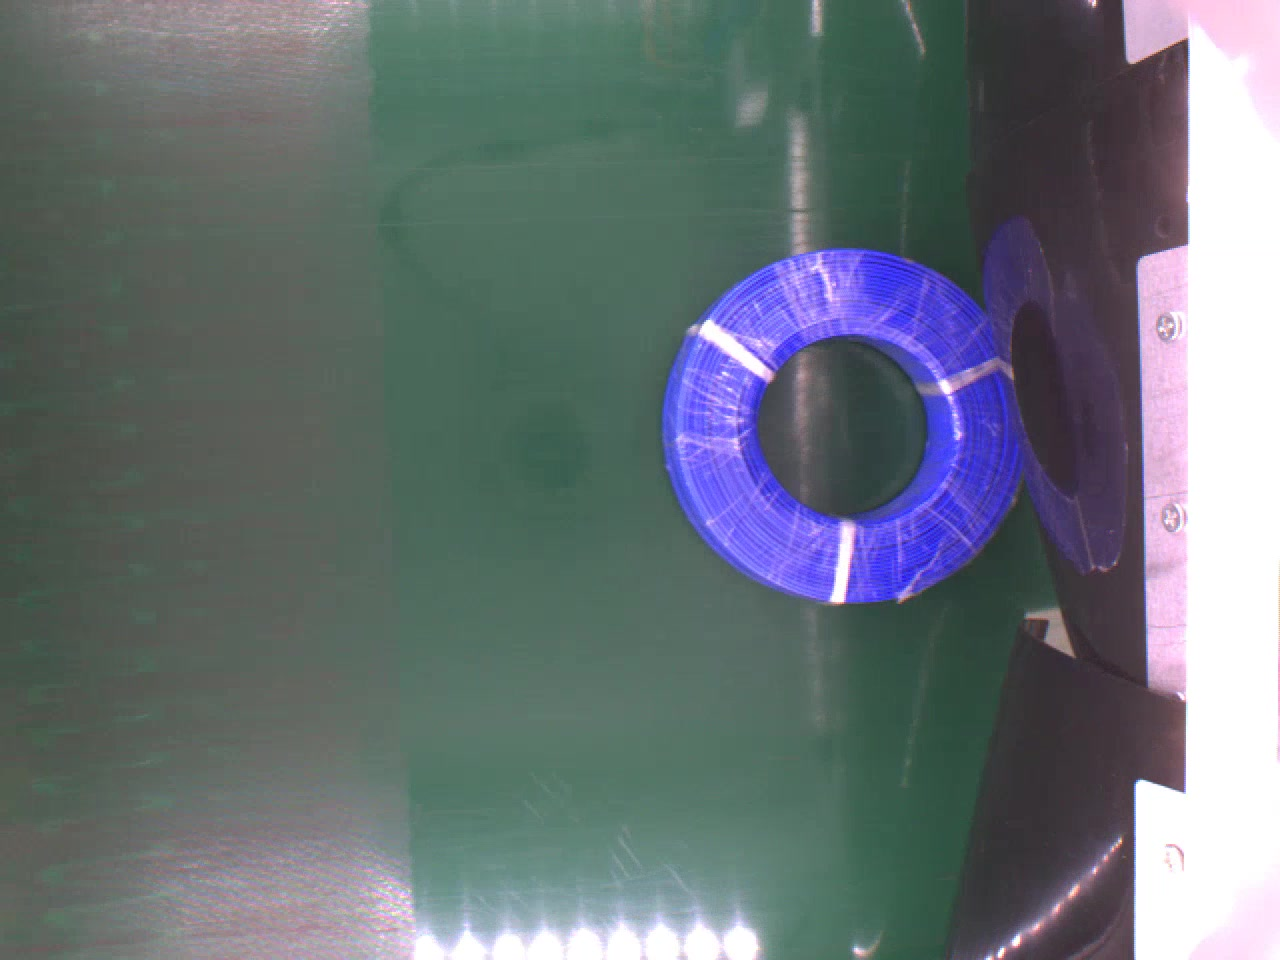blue: (663, 252, 1027, 611)
